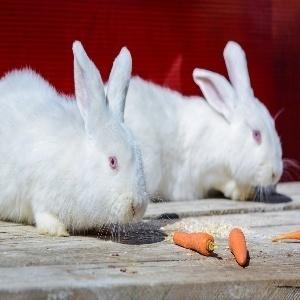rabbit: (0, 41, 284, 238), (131, 45, 284, 200)
